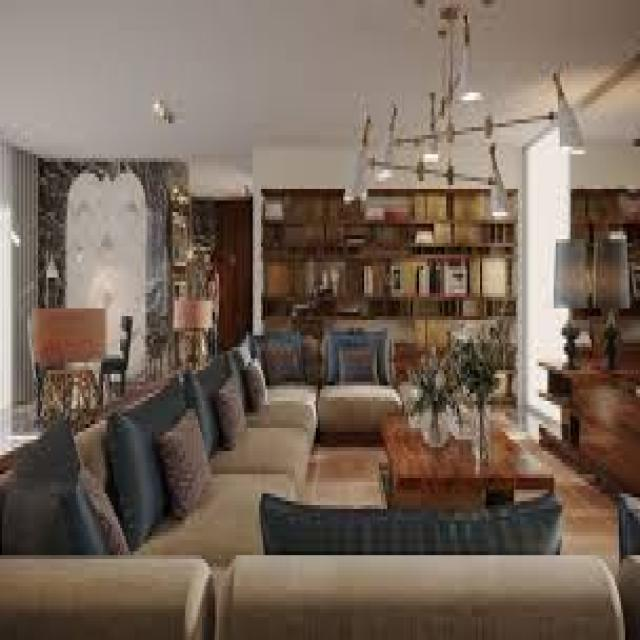Lamp: (337, 2, 591, 244), (598, 222, 634, 378), (555, 230, 594, 365)
Sofa: (6, 339, 418, 640)
Table: (382, 408, 551, 497)
